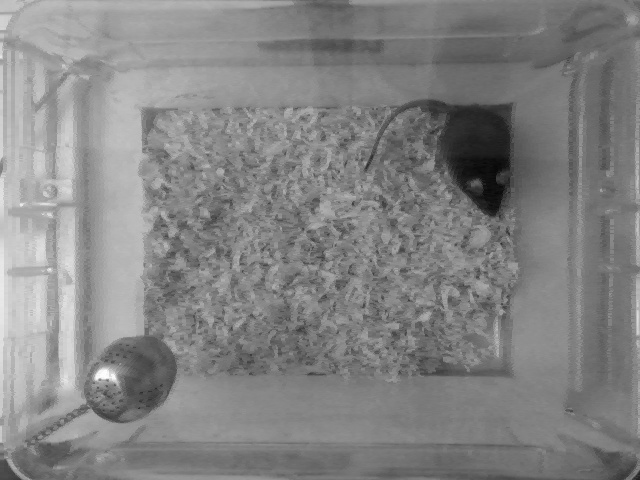mice: (354, 100, 513, 219)
